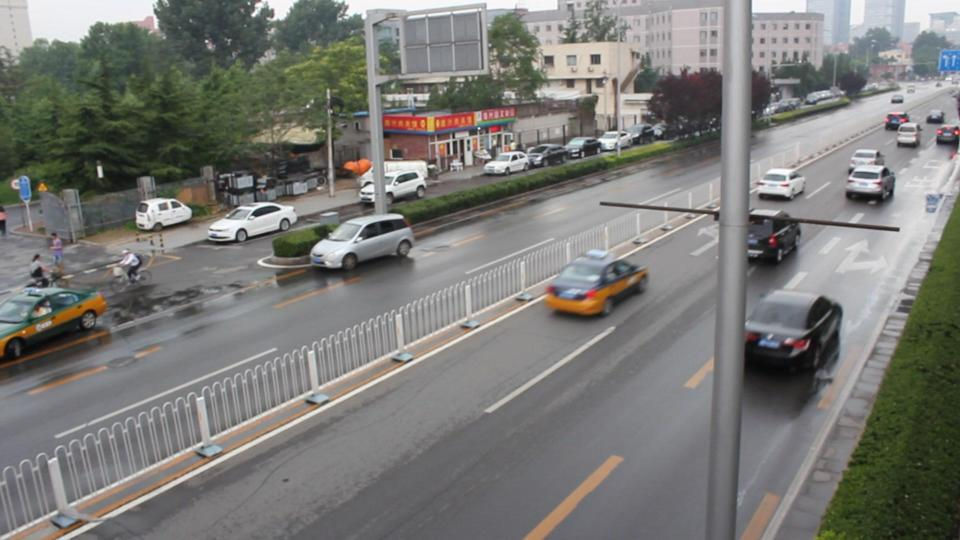Car: (735, 286, 839, 367), (543, 251, 643, 318), (307, 212, 414, 270), (728, 207, 796, 265), (843, 163, 893, 202), (755, 165, 803, 199), (846, 145, 880, 174)
